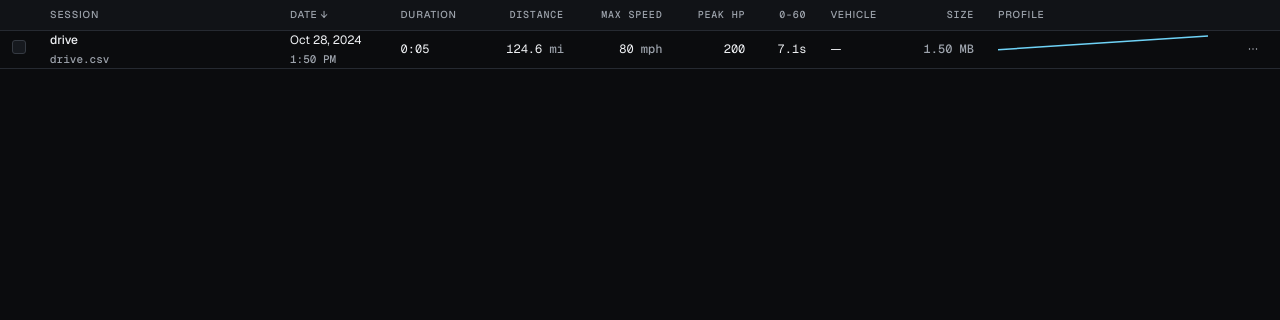
Scenario: pages/library/sessions-table › clicking the row `…` button opens the action menu
What coordinates should you click on to do the following:
click the button with test id "sessions-table-more-s_1"
I would click on:
 (1253, 49)
Its box is [1238,36,1268,62].
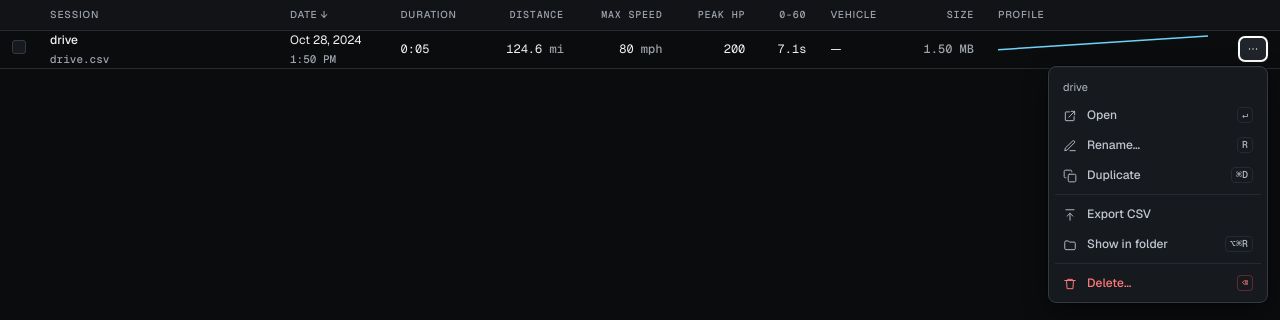
Now the menu with test id "sessions-table-menu" is shown, box [1048,66,1268,303]
Now the menu item with test id "sessions-table-menu-open" is shown, box [1053,100,1263,130]
Now the menu item with test id "sessions-table-menu-rename" is shown, box [1053,130,1263,160]
